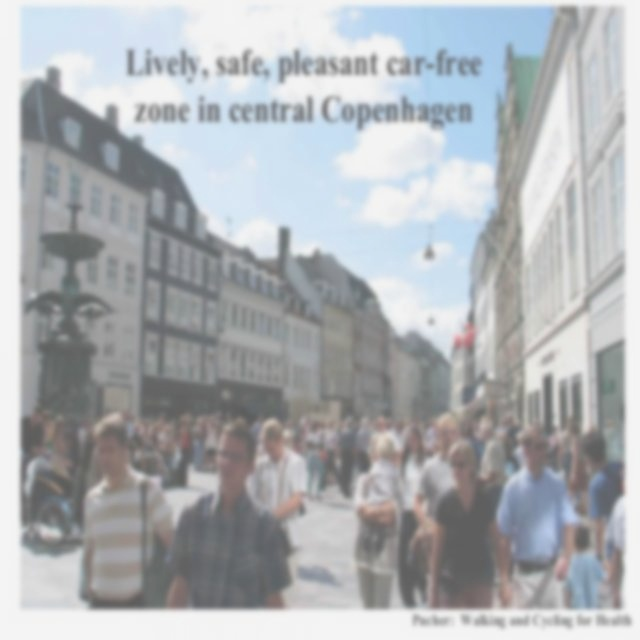pessoa: (164, 420, 294, 610), (80, 406, 181, 639), (495, 422, 577, 611), (425, 438, 513, 611), (348, 429, 406, 639), (248, 416, 310, 610), (412, 410, 460, 551), (579, 428, 625, 570), (396, 426, 430, 611), (361, 435, 400, 556), (563, 521, 613, 609), (130, 408, 188, 466), (476, 417, 508, 517), (604, 466, 626, 607), (567, 420, 591, 518), (68, 416, 87, 534), (366, 413, 403, 468), (335, 416, 357, 500), (321, 417, 345, 493), (304, 420, 326, 502), (557, 412, 576, 490), (49, 413, 69, 480), (492, 414, 512, 481), (20, 402, 46, 453), (355, 417, 377, 477), (456, 420, 484, 462), (86, 408, 130, 434), (177, 416, 190, 490), (220, 408, 236, 467), (500, 437, 520, 484), (138, 466, 176, 489), (494, 428, 514, 468), (422, 414, 439, 460), (389, 420, 406, 462), (202, 412, 218, 456), (190, 416, 202, 474), (504, 411, 522, 448), (514, 428, 528, 471), (198, 412, 208, 470), (295, 414, 310, 450), (214, 410, 226, 453), (404, 417, 432, 435), (86, 453, 100, 486), (283, 418, 296, 450), (319, 419, 329, 457), (251, 414, 264, 441), (41, 409, 53, 437), (548, 423, 560, 449), (618, 400, 625, 424), (334, 417, 346, 430), (384, 416, 395, 428), (312, 468, 319, 486), (235, 416, 247, 426), (328, 469, 335, 485), (369, 416, 377, 428), (514, 418, 522, 430), (540, 428, 548, 440), (478, 414, 492, 420), (532, 416, 540, 426), (589, 424, 596, 432), (352, 424, 359, 432)
